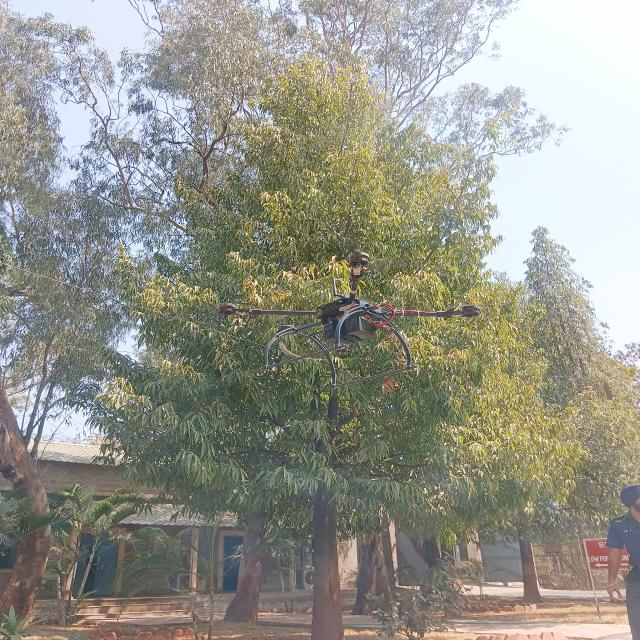drone: (184, 236, 510, 390)
